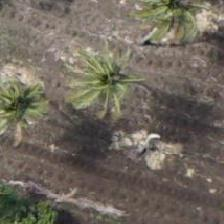coconut_tree: (61, 38, 151, 128), (0, 60, 61, 150), (131, 0, 221, 51)
